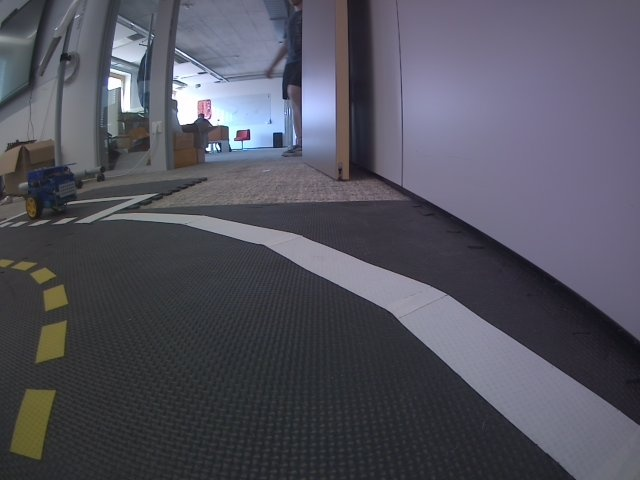Bot: (25, 163, 78, 218)
occupiedSlot: (0, 194, 158, 228)
